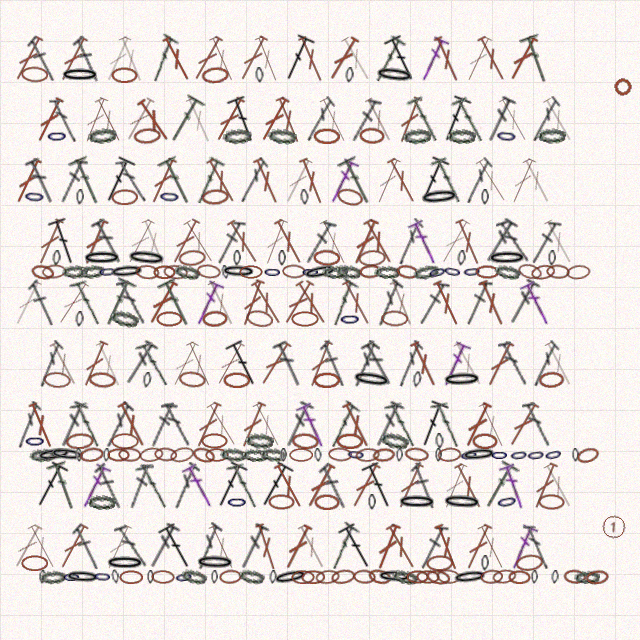chain: (351, 369, 392, 390), (374, 65, 415, 85), (419, 187, 460, 207), (126, 248, 167, 268), (302, 262, 339, 282), (272, 567, 309, 587), (442, 493, 482, 511), (36, 445, 72, 464), (442, 371, 482, 388), (195, 554, 235, 571), (335, 186, 365, 208), (109, 308, 140, 329), (379, 430, 410, 451), (452, 568, 488, 586), (60, 67, 100, 83), (82, 250, 122, 266), (487, 250, 527, 266), (397, 494, 437, 510), (105, 555, 145, 571), (109, 263, 145, 280), (49, 446, 85, 463), (461, 446, 497, 463), (245, 308, 274, 329), (87, 126, 117, 145), (412, 262, 440, 282), (65, 569, 100, 585), (515, 553, 544, 572), (222, 127, 252, 145), (267, 127, 297, 145), (402, 127, 432, 145), (178, 370, 206, 389), (180, 567, 208, 586), (221, 264, 256, 279), (377, 569, 412, 584), (65, 432, 94, 450), (191, 445, 217, 465), (575, 445, 601, 465), (201, 66, 229, 84), (133, 127, 161, 145), (201, 188, 229, 206), (178, 249, 206, 267), (358, 249, 386, 267), (173, 263, 201, 281), (43, 371, 71, 389), (88, 371, 116, 389), (291, 432, 319, 450), (391, 568, 419, 586), (517, 262, 543, 281), (169, 445, 195, 464), (537, 127, 566, 144), (245, 432, 274, 449), (494, 263, 521, 281), (367, 567, 392, 586), (530, 263, 556, 281), (425, 568, 451, 586), (447, 128, 476, 144), (87, 494, 116, 510), (21, 66, 48, 83), (313, 249, 340, 266), (78, 263, 105, 280), (335, 263, 362, 280), (381, 310, 408, 327), (538, 371, 565, 388), (238, 568, 265, 585), (495, 492, 519, 511), (30, 263, 55, 281), (395, 263, 420, 281), (291, 311, 319, 327), (111, 433, 139, 449), (359, 127, 385, 144), (202, 310, 228, 327), (330, 568, 356, 585), (111, 67, 138, 83), (313, 128, 340, 144), (111, 189, 138, 205), (156, 311, 183, 327), (223, 372, 250, 388), (313, 372, 340, 388), (201, 433, 228, 449), (336, 433, 363, 449), (29, 447, 56, 463), (268, 494, 295, 510), (538, 494, 565, 510), (21, 555, 48, 571), (426, 555, 453, 571), (39, 569, 66, 585), (196, 263, 221, 280), (79, 446, 104, 463), (139, 446, 164, 463), (404, 446, 429, 463), (492, 568, 517, 585), (472, 433, 498, 449), (314, 494, 340, 510), (495, 127, 518, 145), (135, 264, 160, 280), (163, 264, 188, 280), (566, 264, 591, 280), (355, 447, 380, 463), (315, 569, 340, 585), (23, 188, 46, 205), (158, 188, 181, 205), (62, 264, 88, 279), (220, 447, 246, 462), (260, 447, 286, 462), (372, 447, 396, 463), (585, 569, 609, 585), (427, 263, 448, 281), (437, 447, 462, 462), (436, 569, 461, 584), (322, 265, 348, 279), (374, 265, 400, 279), (242, 448, 268, 462), (574, 570, 600, 584), (42, 264, 66, 279), (282, 264, 306, 279), (546, 264, 570, 279), (328, 447, 352, 462), (563, 569, 587, 584), (442, 263, 463, 280), (543, 446, 564, 463), (46, 128, 68, 144), (339, 311, 361, 327), (24, 433, 46, 449), (226, 494, 248, 510), (359, 264, 382, 279), (118, 447, 141, 462), (154, 447, 177, 462), (219, 569, 242, 584), (353, 569, 376, 584), (480, 569, 503, 584), (239, 265, 263, 279), (475, 265, 499, 279), (205, 448, 229, 462), (289, 448, 313, 462), (119, 570, 143, 584), (151, 570, 175, 584), (291, 570, 315, 584), (301, 570, 325, 584), (416, 570, 440, 584), (153, 265, 176, 279), (107, 448, 130, 462), (406, 570, 429, 584), (508, 570, 531, 584), (459, 447, 479, 463), (509, 447, 529, 463), (526, 447, 546, 463), (174, 569, 194, 585), (462, 264, 482, 279), (346, 447, 366, 462), (98, 264, 117, 279), (93, 569, 112, 584), (263, 265, 282, 279), (301, 265, 320, 279), (490, 448, 509, 462), (62, 570, 81, 584), (412, 371, 422, 388), (142, 372, 152, 388), (255, 67, 264, 83), (345, 67, 354, 83), (300, 189, 309, 205), (52, 250, 61, 266), (457, 250, 466, 266), (75, 311, 84, 327), (435, 433, 444, 449), (111, 569, 120, 584), (76, 189, 84, 205), (481, 189, 489, 205), (233, 250, 241, 266), (278, 250, 286, 266), (548, 250, 556, 266), (368, 494, 376, 510), (481, 555, 489, 571), (221, 265, 230, 279), (75, 448, 83, 462), (314, 448, 322, 462), (269, 570, 277, 584), (551, 570, 559, 584), (103, 448, 110, 462), (280, 448, 287, 462), (396, 448, 403, 462), (435, 448, 442, 462), (572, 448, 579, 462), (39, 570, 46, 584), (147, 570, 154, 584), (211, 570, 218, 584), (531, 570, 538, 584)
double: (164, 94, 206, 146), (479, 460, 520, 512), (157, 155, 197, 207), (337, 155, 377, 207), (30, 460, 70, 511), (255, 460, 295, 511), (157, 521, 197, 572), (337, 521, 377, 572), (157, 277, 196, 329), (224, 338, 263, 389), (68, 155, 106, 207), (99, 277, 137, 329), (368, 34, 407, 84), (383, 33, 421, 84), (99, 155, 137, 206), (211, 460, 249, 511), (360, 460, 398, 511), (134, 96, 174, 144), (472, 156, 511, 205), (224, 217, 263, 266), (292, 278, 331, 327), (135, 339, 173, 389), (324, 400, 362, 450), (279, 33, 316, 84), (405, 94, 442, 145), (189, 155, 226, 206), (414, 155, 451, 206), (53, 279, 92, 327), (46, 460, 82, 512), (324, 34, 362, 83), (180, 217, 218, 266), (481, 217, 519, 266), (248, 278, 286, 327), (279, 278, 317, 327), (121, 339, 159, 388), (256, 339, 294, 388), (203, 400, 241, 449), (504, 400, 542, 449), (450, 95, 487, 145), (135, 461, 172, 511), (437, 94, 473, 145), (429, 155, 465, 206), (69, 277, 105, 328), (69, 399, 105, 450), (384, 399, 420, 450), (226, 460, 262, 511), (325, 521, 361, 572), (519, 33, 554, 85), (189, 34, 226, 83), (338, 34, 375, 83), (121, 95, 158, 144), (211, 95, 248, 144), (256, 95, 293, 144), (495, 95, 532, 144), (540, 95, 577, 144), (203, 156, 240, 205), (90, 217, 127, 266), (360, 217, 397, 266), (436, 217, 473, 266), (144, 278, 181, 327), (211, 339, 248, 388), (360, 339, 397, 388), (450, 339, 487, 388), (540, 461, 577, 510), (9, 522, 46, 571), (383, 522, 420, 571), (55, 34, 91, 84), (280, 156, 316, 206), (451, 461, 487, 511), (226, 94, 261, 145), (415, 399, 450, 450), (10, 34, 46, 83), (159, 34, 195, 83), (235, 34, 271, 83), (474, 34, 510, 83), (505, 34, 541, 83), (361, 95, 397, 144), (384, 156, 420, 205), (519, 156, 555, 205), (122, 217, 158, 266), (167, 217, 203, 266), (271, 217, 307, 266), (541, 217, 577, 266), (339, 278, 375, 327), (505, 278, 541, 327), (46, 339, 82, 388), (541, 339, 577, 388), (114, 400, 150, 449), (249, 400, 285, 449), (181, 461, 217, 510), (271, 461, 307, 510), (302, 461, 338, 510), (347, 461, 383, 510), (24, 522, 60, 571), (55, 522, 91, 571), (145, 522, 181, 571), (294, 522, 330, 571), (32, 95, 67, 145), (91, 95, 126, 145), (316, 95, 351, 145), (24, 156, 59, 206), (325, 156, 360, 206), (316, 217, 351, 267), (10, 278, 45, 328), (204, 278, 239, 328), (519, 278, 554, 328), (167, 339, 202, 389), (482, 339, 517, 389), (339, 400, 374, 450), (460, 400, 495, 450), (77, 461, 112, 511), (280, 522, 315, 572), (474, 522, 509, 572), (146, 33, 180, 84), (47, 216, 81, 267), (326, 277, 360, 328), (430, 399, 464, 450), (101, 34, 135, 84), (205, 34, 239, 84), (416, 34, 450, 84), (430, 34, 464, 84), (461, 34, 495, 84), (182, 95, 216, 145), (483, 95, 517, 145), (11, 156, 45, 206), (146, 156, 180, 206), (33, 217, 67, 267), (348, 217, 382, 267), (407, 217, 441, 267), (191, 278, 225, 328), (430, 278, 464, 328), (475, 278, 509, 328), (92, 339, 126, 389), (182, 339, 216, 389), (272, 339, 306, 389), (407, 339, 441, 389), (438, 339, 472, 389), (191, 400, 225, 450), (281, 400, 315, 450), (295, 400, 329, 450), (371, 400, 405, 450), (475, 400, 509, 450), (393, 461, 427, 511), (101, 522, 135, 572), (205, 522, 239, 572), (236, 522, 270, 572), (461, 522, 495, 572), (302, 218, 337, 266), (100, 401, 135, 449), (115, 34, 148, 84), (295, 34, 328, 84), (272, 95, 305, 145), (250, 156, 283, 206), (371, 156, 404, 206), (506, 156, 539, 206), (452, 217, 485, 267), (78, 339, 111, 389), (25, 400, 58, 450), (56, 400, 89, 450), (236, 400, 269, 450), (438, 461, 471, 511), (506, 522, 539, 572), (302, 96, 337, 143), (496, 218, 531, 265), (114, 523, 149, 570), (25, 35, 59, 83), (348, 96, 382, 144), (528, 218, 562, 266), (416, 279, 450, 327), (251, 34, 283, 84), (79, 95, 111, 145), (296, 156, 328, 206), (79, 217, 111, 267), (138, 217, 170, 267), (259, 217, 291, 267), (386, 278, 418, 328), (304, 339, 336, 389), (529, 461, 561, 511), (372, 522, 404, 572), (431, 522, 463, 572), (528, 96, 562, 143), (115, 157, 149, 204), (236, 157, 270, 204), (348, 340, 381, 388), (168, 462, 201, 510), (317, 462, 350, 510), (70, 523, 103, 571), (394, 95, 425, 145), (237, 278, 268, 328), (498, 461, 529, 511), (71, 35, 103, 83), (462, 157, 494, 205), (214, 218, 246, 266), (26, 279, 58, 327), (372, 279, 404, 327), (529, 340, 561, 388), (93, 462, 125, 510), (417, 523, 449, 571), (57, 156, 88, 205), (116, 278, 147, 327), (318, 339, 349, 388), (498, 339, 529, 388), (147, 400, 178, 449), (161, 400, 192, 449), (192, 522, 223, 571), (394, 218, 425, 266), (394, 340, 425, 388), (463, 278, 493, 327), (522, 400, 552, 449), (409, 461, 439, 510), (252, 522, 281, 572), (49, 96, 79, 144), (35, 340, 65, 388), (13, 401, 43, 449), (126, 461, 154, 510), (523, 522, 551, 571)
noise: (600, 513, 627, 540), (612, 76, 634, 98)
